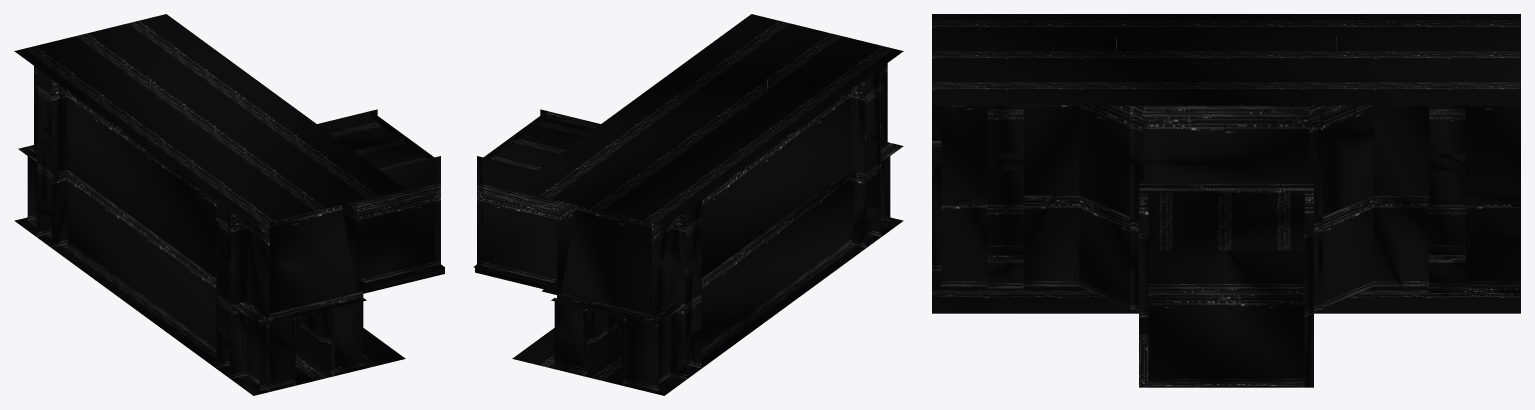
Rendered from room2elevator_opt.obj.
3 views of the same model, side by side, from view 1: azimuth 30°, elevation 25°; view 2: azimuth 150°, elevation 25°; view 3: azimuth 270°, elevation 25° (orthographic). The views are drawn at different scales.
Bounding box in the file's own units: 68 × 44.34 × 102.
Materials: 9 (9 with a texture image).
